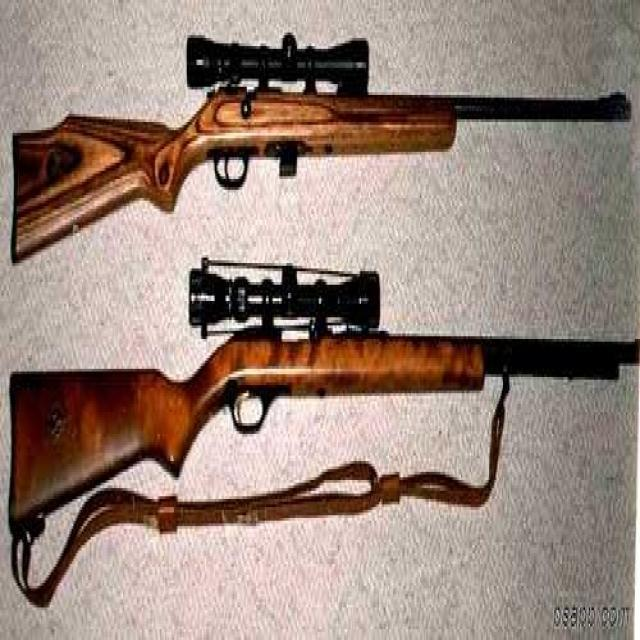weapon: (5, 8, 639, 282), (5, 309, 640, 578)
